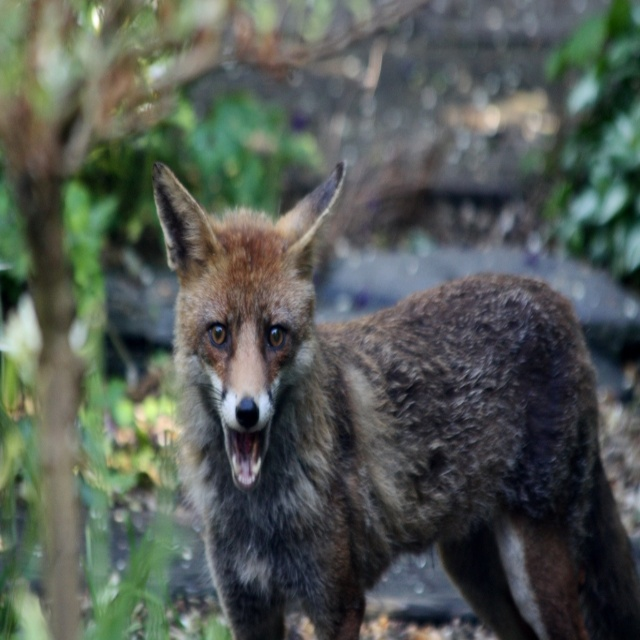Fox: (150, 165, 640, 639)
